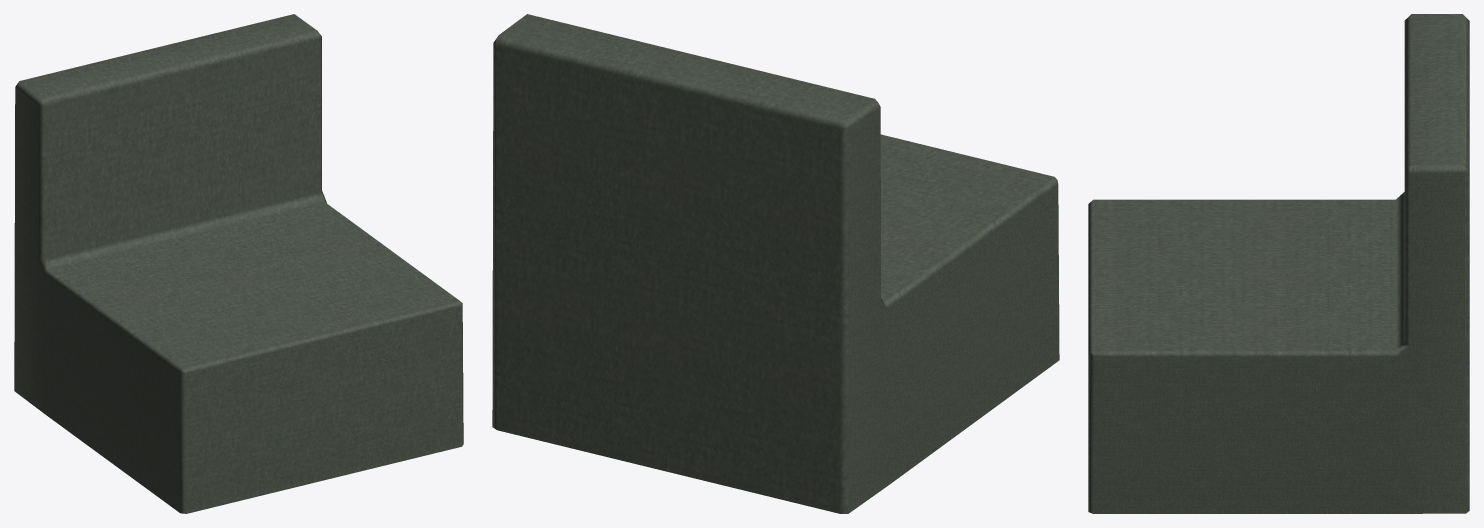
Rendered from LGSeocho25CouchSingle.fbx.
The picture shows the model from 3 angles, left to right: view 1: azimuth 30°, elevation 25°; view 2: azimuth 150°, elevation 25°; view 3: azimuth 270°, elevation 25°; orthographic projection. The views are drawn at different scales.
Parts seen in each view (by area): view 1: LGSeocho25Fabric; view 2: LGSeocho25Fabric; view 3: LGSeocho25Fabric.
Part boxes in pixels (x1=…): LGSeocho25Fabric: x1=14, y1=14, x2=463, y2=513; LGSeocho25Fabric: x1=492, y1=14, x2=1059, y2=513; LGSeocho25Fabric: x1=1088, y1=14, x2=1469, y2=513.
Bounding box in the file's own units: 67.19 × 70.32 × 70.
